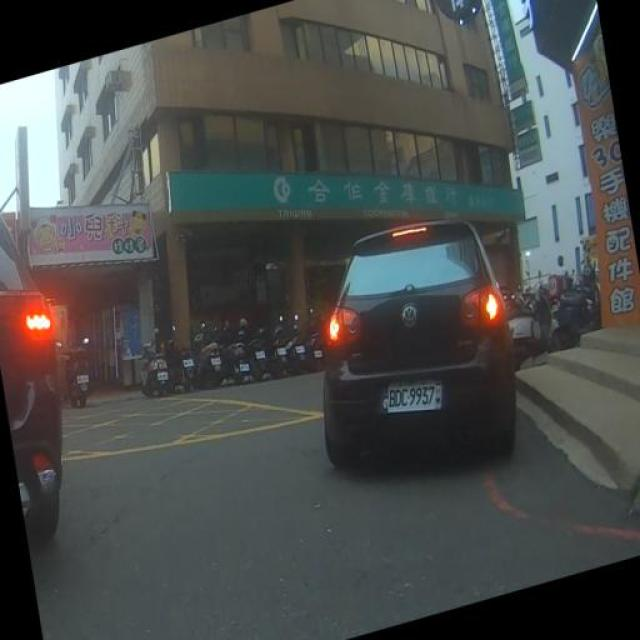illegalparking: (282, 218, 579, 505)
